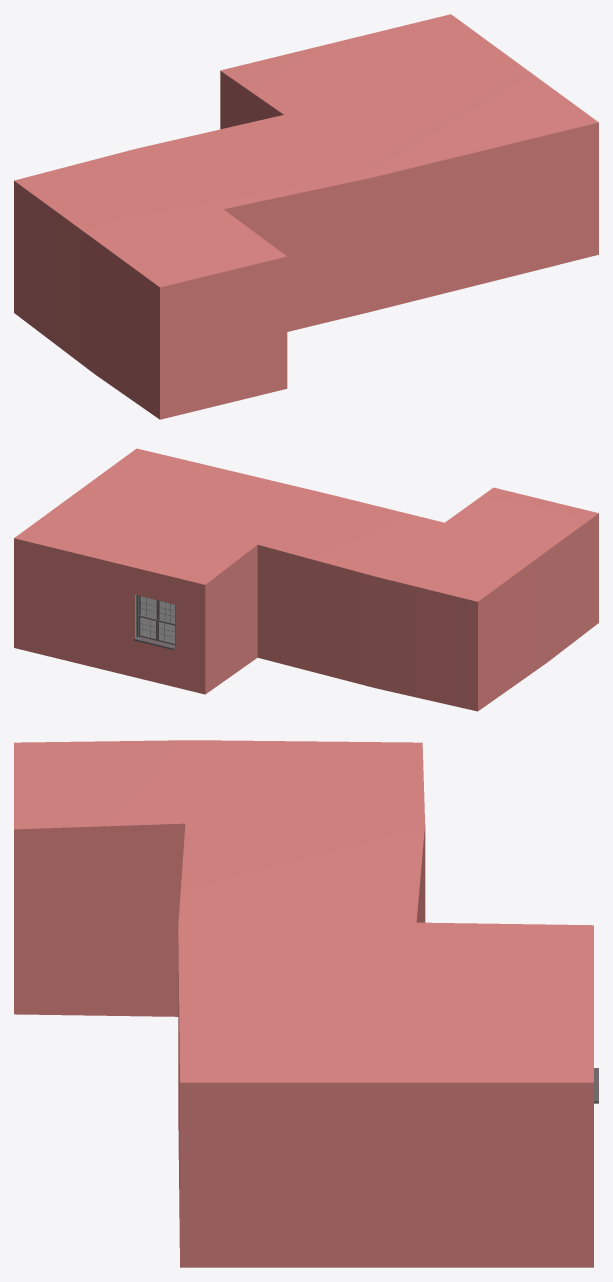
File: mdl_Room.fbx
3 views of the same model, one above another, from view 1: azimuth 30°, elevation 25°; view 2: azimuth 150°, elevation 25°; view 3: azimuth 270°, elevation 25° (orthographic). The views are drawn at different scales.
Visible parts, largest first — view 1: Room; view 2: Room, Window, WindowB, WindowA; view 3: Room.
Boxes of the visible parts, x1,y1,x2,y2 form: Room: (14,14,598,419); Room: (14,448,598,711); Window: (133,595,175,650); WindowB: (139,615,157,640); WindowA: (157,620,174,644); Room: (14,740,593,1267).
Bounding box in the file's own units: 1403 × 371 × 1018.
